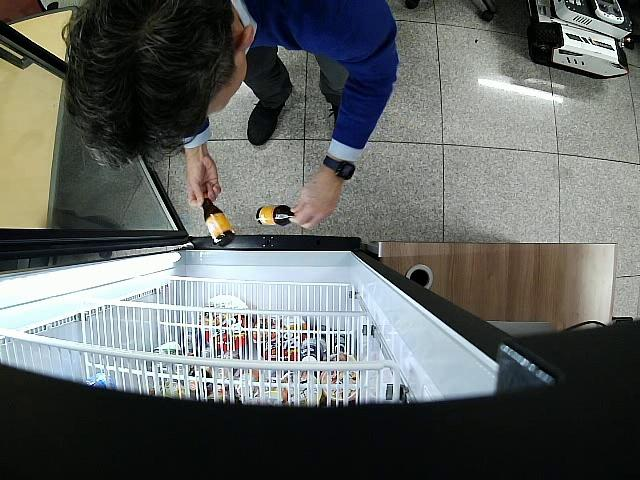00_hand: (291, 176, 345, 231), (187, 150, 222, 206)
17_vita500: (202, 198, 235, 247), (256, 205, 295, 225)
